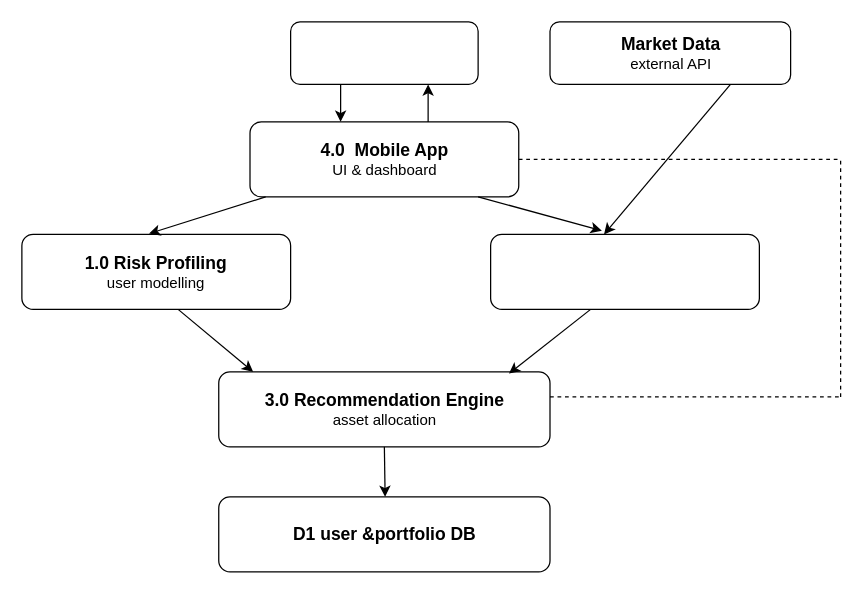
This 864x594 diagram has some shape labels left out. Here are the shapes that lost their labels. From the top down, the centre of each, then its label:
At (383,52): "User".
At (624,271): "2.0 Forecasting SIP &inflation calc".
